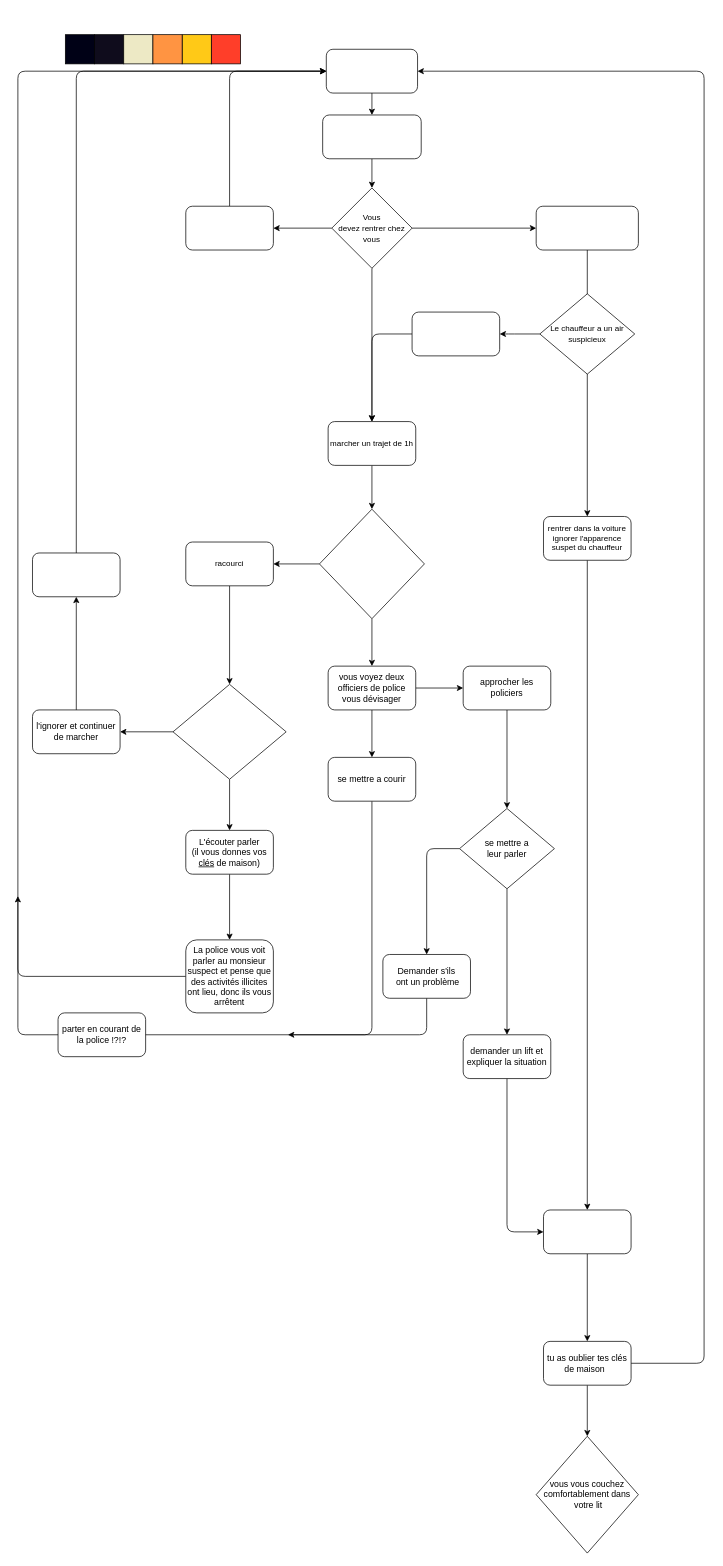
Image size: 723x1566. Some labels were removed from this diagram. Each missing label, with the centre of its shape:
"Appele un uber pour te ramener chez toi" belongs at (586,227).
"continuer de faire la fête" belongs at (229,227).
"decide de marcher" belongs at (455,333).
"Enfin arriver a la maison" belongs at (587,1231).
"homme_mistérieux il se met a te parler" belongs at (229,731).
"le monsieur n'aime pas les personnes impolies, donc il te punit" belongs at (76,574).
"racourci dangereux mais rapide ou trajet regulier" belongs at (371,563).
"reset" belongs at (372,71).
"vous regardez l'heure et realiser qu'il se fait tard" belongs at (371,136).
